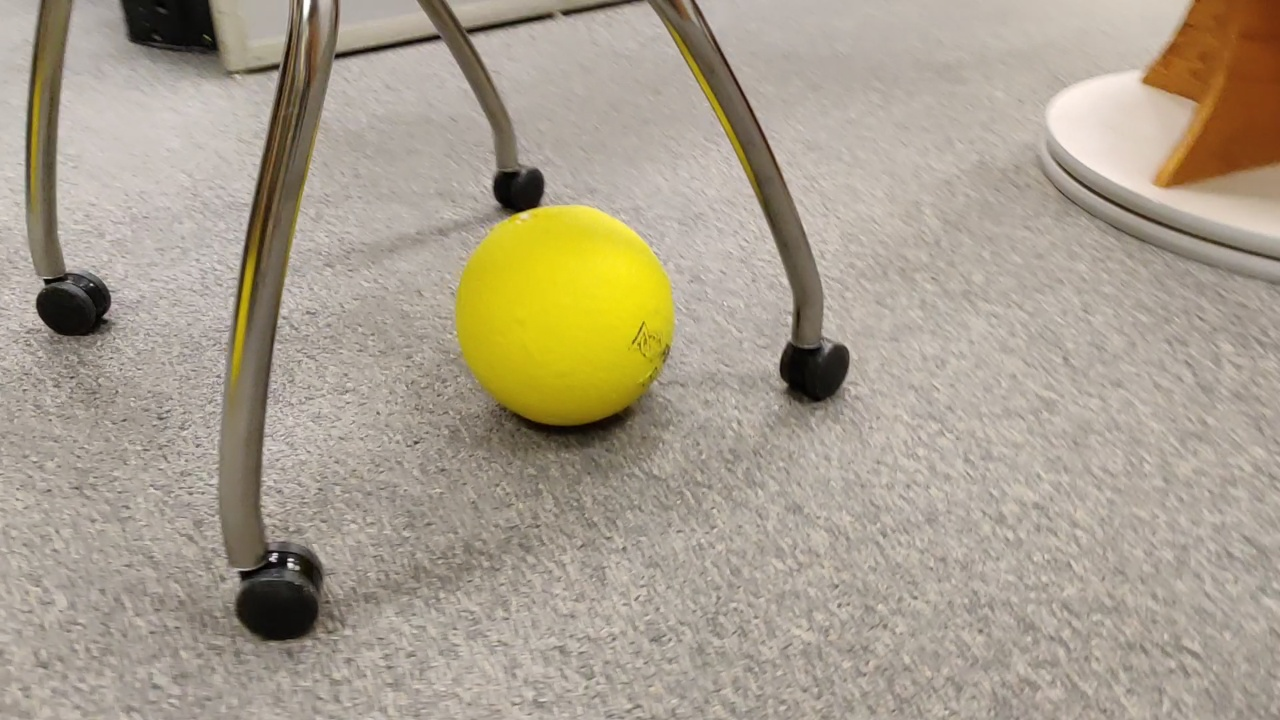Ball: (454, 207, 676, 426)
